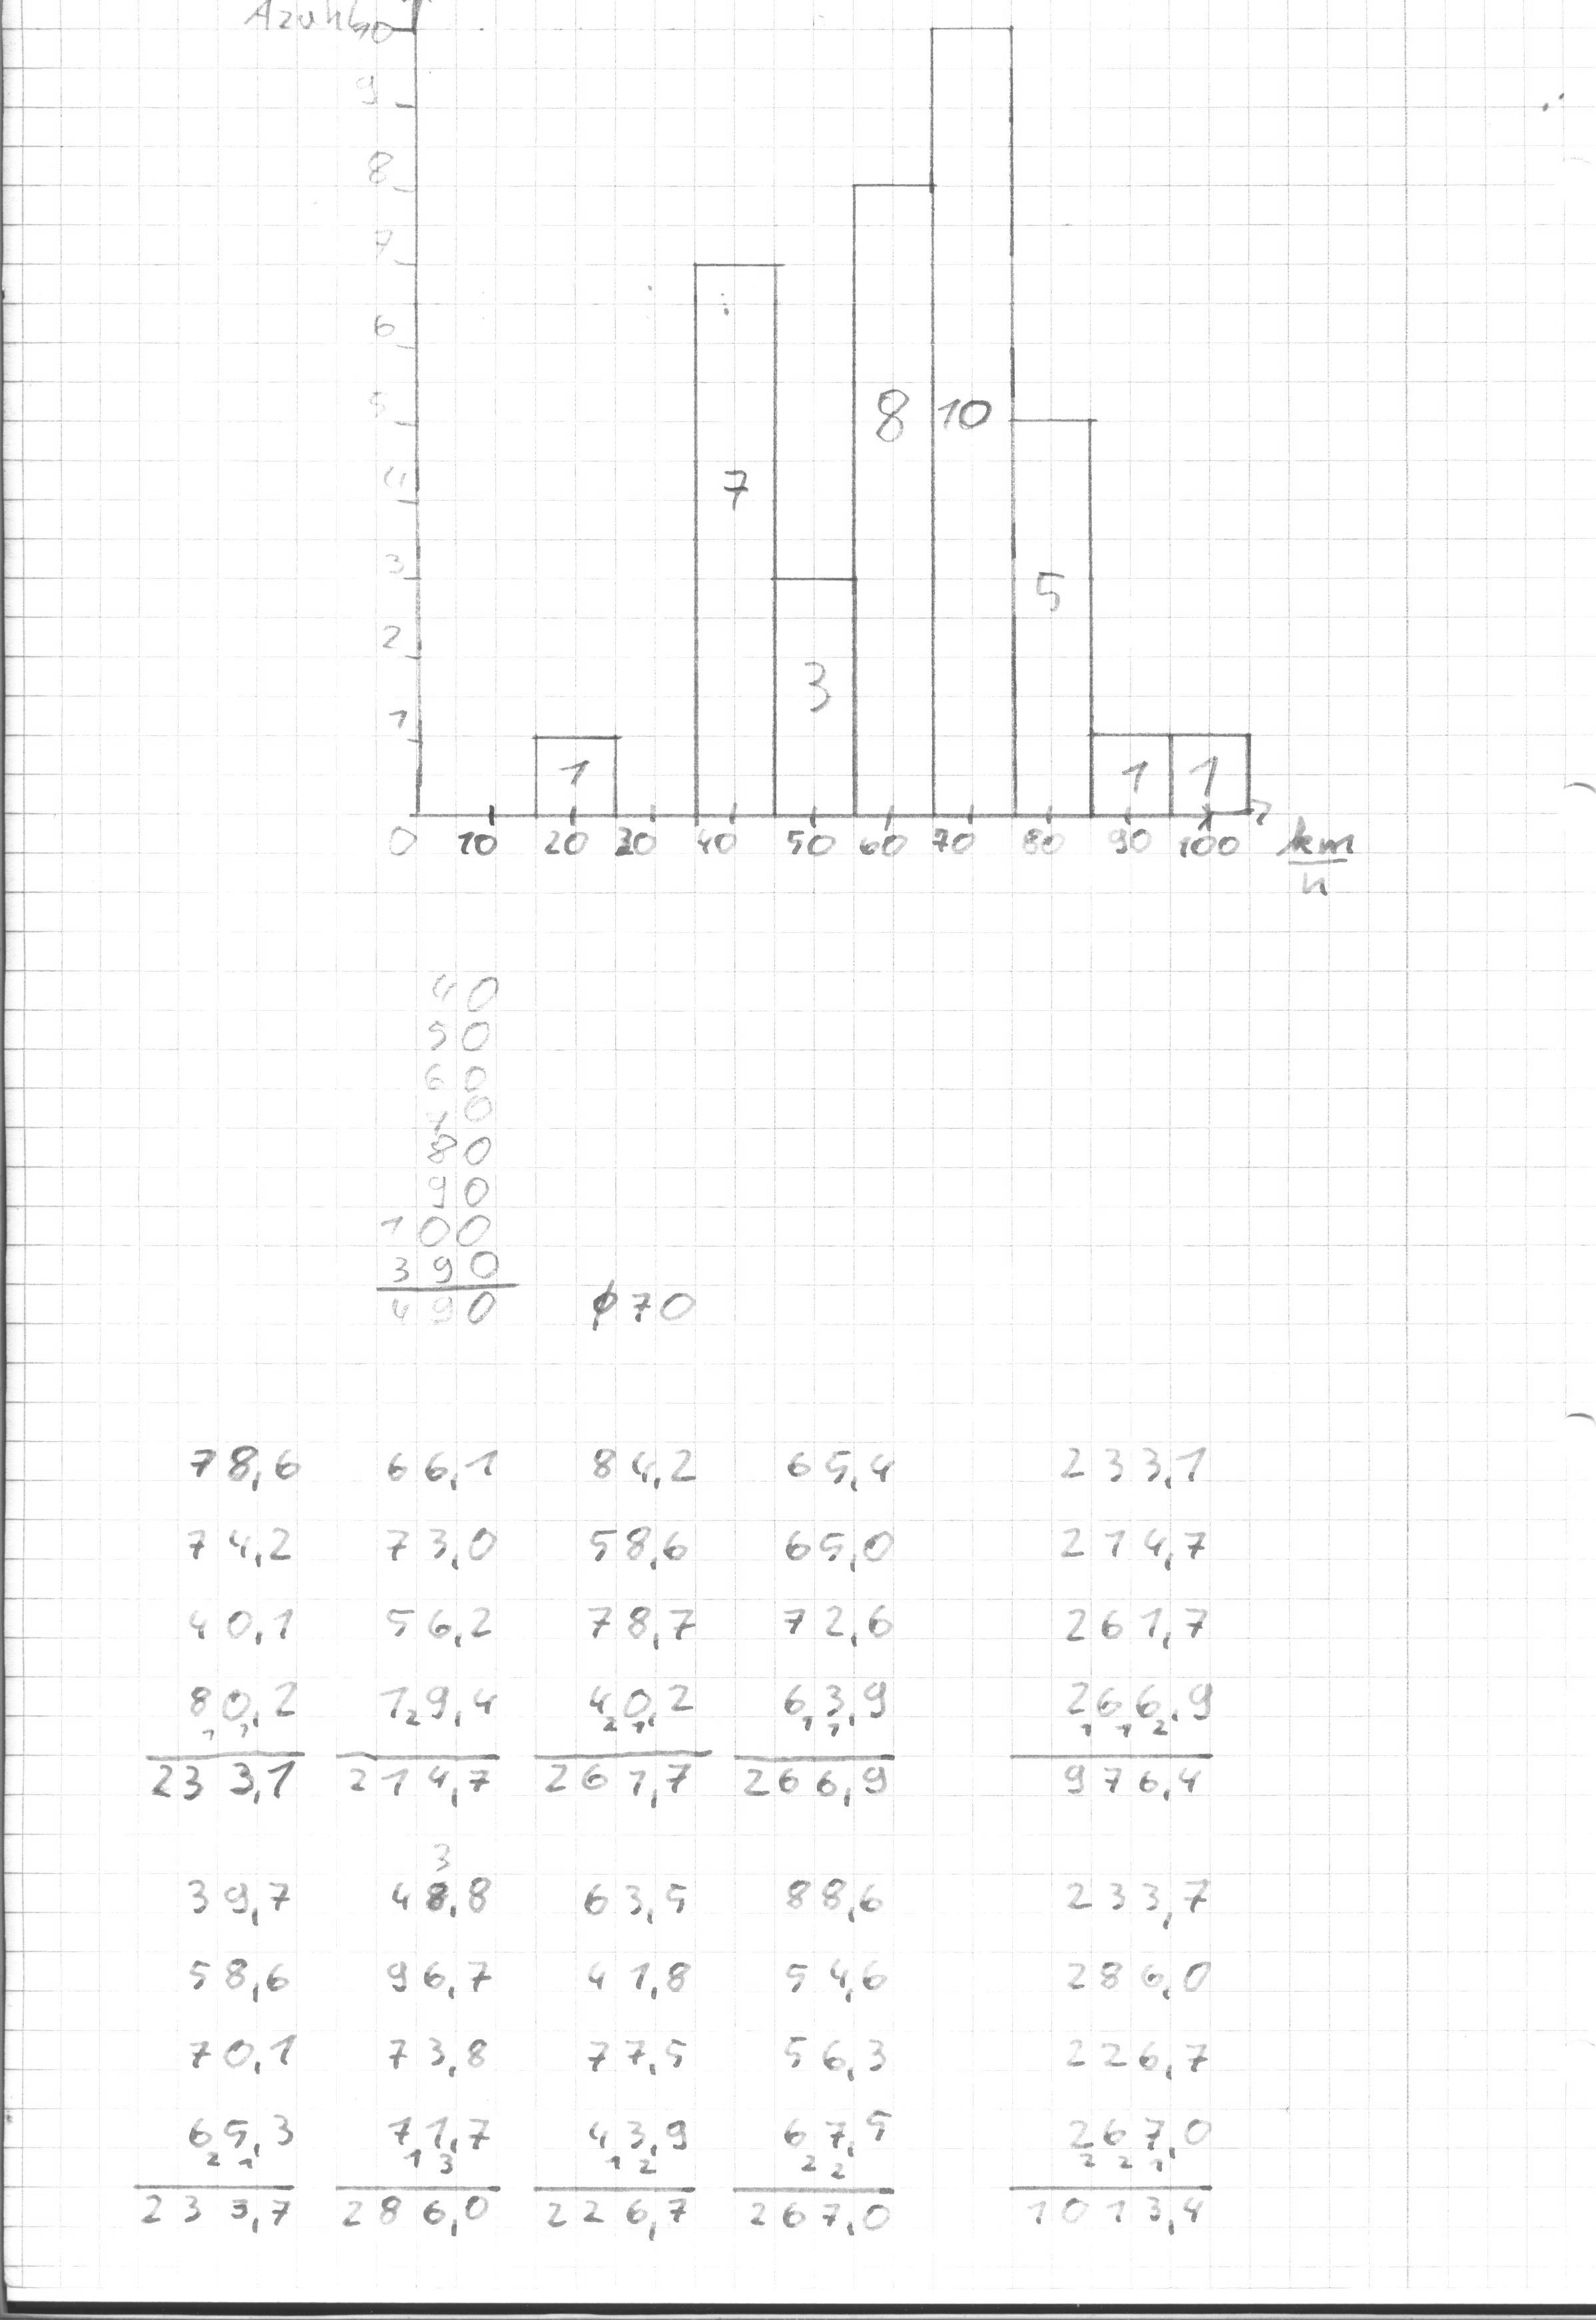word: (441, 794, 1273, 870), (1043, 1426, 1220, 1582), (1046, 1865, 1226, 2014), (1051, 1597, 1226, 1749), (1055, 2026, 1220, 2183), (546, 1245, 749, 1366), (168, 1430, 316, 1590), (163, 1597, 318, 1747), (368, 1434, 517, 1588), (567, 1594, 707, 1747), (564, 1438, 709, 1587), (766, 2022, 898, 2185), (371, 1594, 509, 1746), (369, 2024, 501, 2177), (176, 2026, 308, 2181), (766, 1434, 903, 1580), (769, 1595, 900, 1746), (576, 2024, 700, 2177), (773, 1869, 902, 2015), (171, 1866, 298, 2013), (524, 1732, 721, 1824), (571, 1869, 702, 2008), (376, 1867, 501, 2012), (998, 2176, 1220, 2249), (131, 1737, 317, 1820), (996, 1742, 1220, 1808), (329, 1744, 511, 1824), (728, 1746, 905, 1819), (526, 2177, 703, 2249), (328, 2177, 505, 2248), (724, 2179, 898, 2247), (124, 2177, 302, 2240), (1268, 808, 1369, 906)
